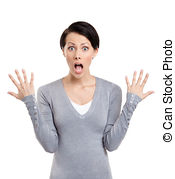face: (50, 19, 103, 81)
